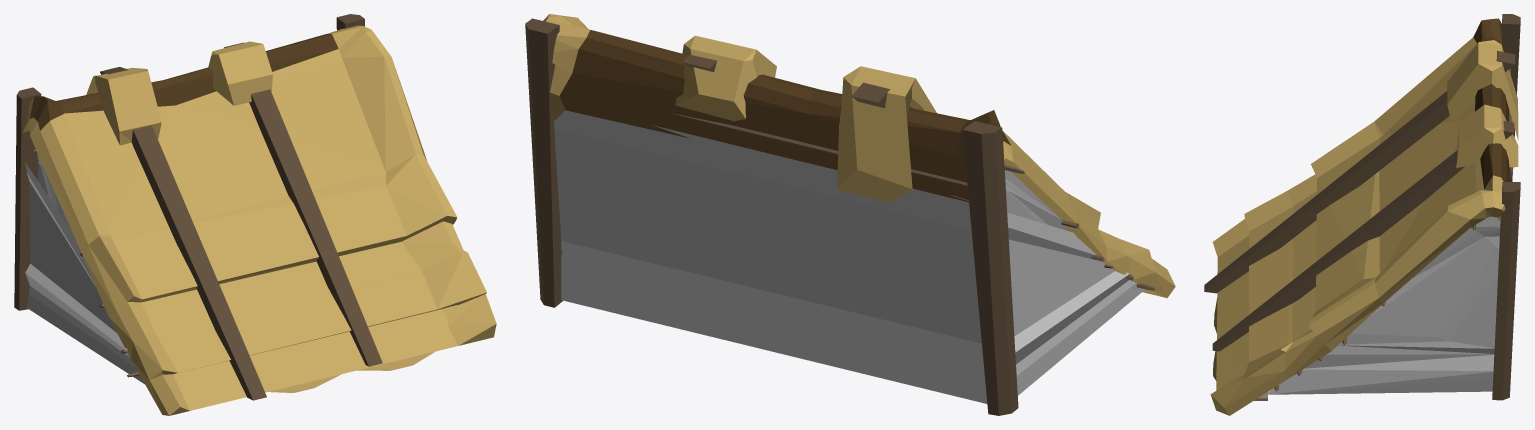
The model's file is EA03_Village_Hut_Roof_Cut_02a.fbx.
3 renders of one model, left to right at view 1: azimuth 30°, elevation 25°; view 2: azimuth 150°, elevation 25°; view 3: azimuth 270°, elevation 25°, orthographic. The views are drawn at different scales.
Visible parts, largest first — view 1: EA03_Village_Hut_Roof_Cut_02a_LOD0; view 2: EA03_Village_Hut_Roof_Cut_02a_LOD0; view 3: EA03_Village_Hut_Roof_Cut_02a_LOD0.
Part boxes in pixels (x1,y1,x2,y2): EA03_Village_Hut_Roof_Cut_02a_LOD0: (14,14,496,415); EA03_Village_Hut_Roof_Cut_02a_LOD0: (525,14,1175,415); EA03_Village_Hut_Roof_Cut_02a_LOD0: (1204,14,1520,415).
Size of what is drawn, in the model's own units: 8.5 by 5.44 by 6.29.
